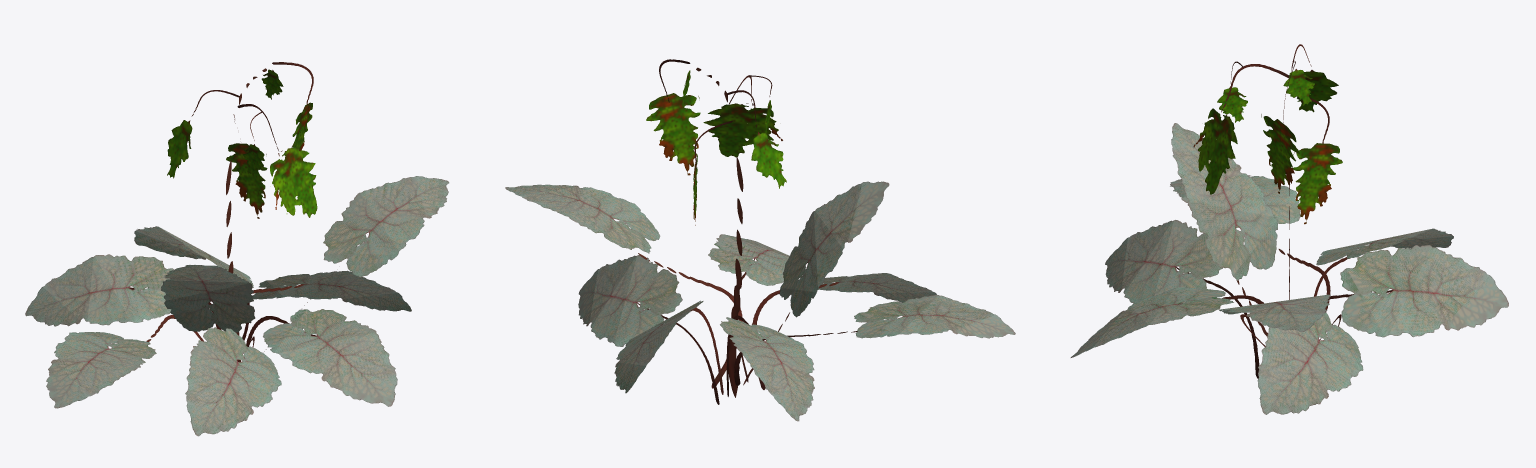
The model's file is Spin Reef D5.fbx.
3 renders of one model, left to right at view 1: azimuth 30°, elevation 25°; view 2: azimuth 150°, elevation 25°; view 3: azimuth 270°, elevation 25°, orthographic. The views are drawn at different scales.
Parts seen in each view (by area): view 1: Spin Reef D5; view 2: Spin Reef D5; view 3: Spin Reef D5.
Part boxes in pixels (x1,y1,x2,y2): Spin Reef D5: (25,62,449,436); Spin Reef D5: (505,59,1015,421); Spin Reef D5: (1070,44,1508,414).
Size of the model in its own units: 242 by 207 by 190.
